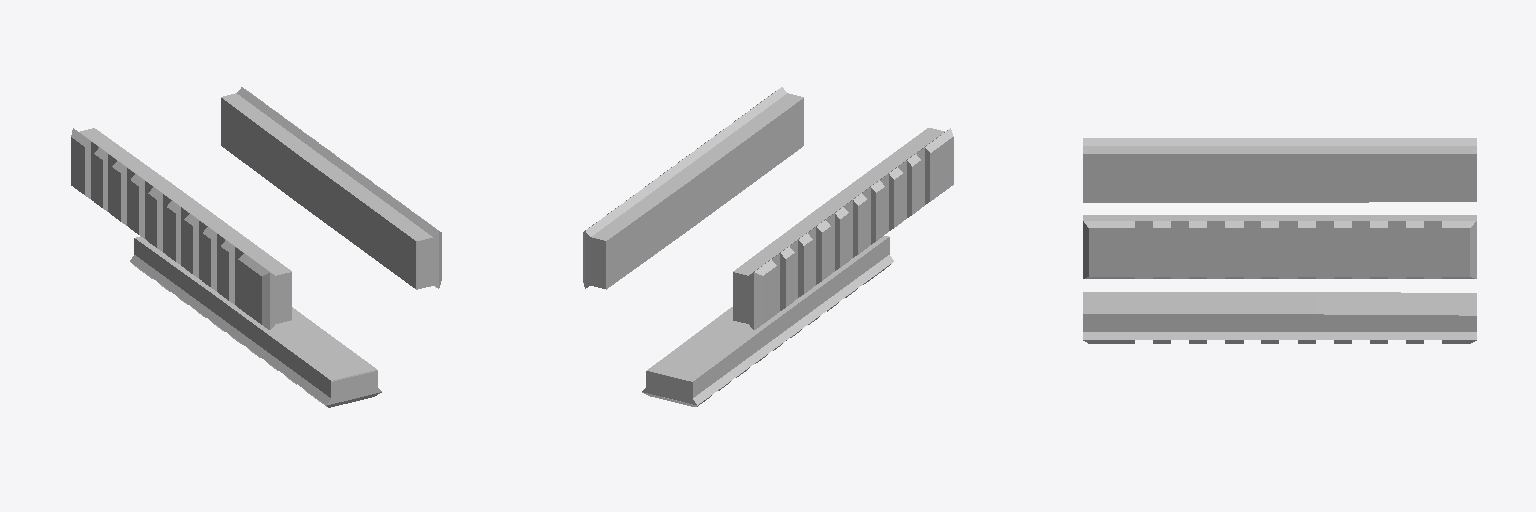
The model's file is Rail2.obj.
3 renders of one model, left to right at view 1: azimuth 30°, elevation 25°; view 2: azimuth 150°, elevation 25°; view 3: azimuth 270°, elevation 25°, orthographic.
Visible parts, largest first — view 1: Cube.006; view 2: Cube.006; view 3: Cube.006.
Part boxes in pixels (bbox=[...]): Cube.006: bbox=[71, 87, 441, 407]; Cube.006: bbox=[583, 87, 953, 406]; Cube.006: bbox=[1083, 138, 1476, 343].
Bounding box in the file's own units: 0.2002 × 0.1626 × 0.3797.